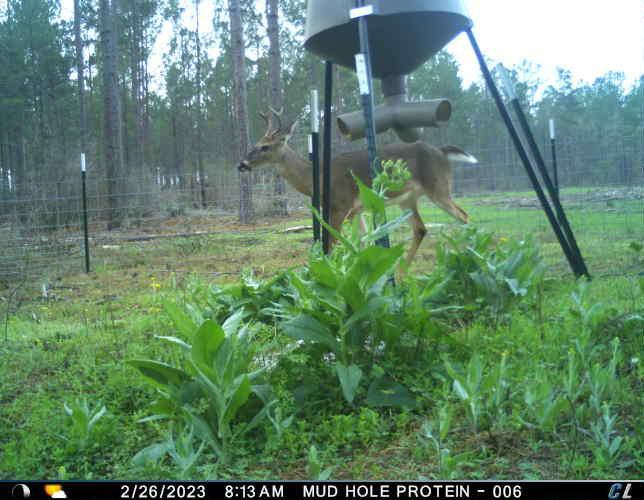Deer: (241, 104, 481, 283)
